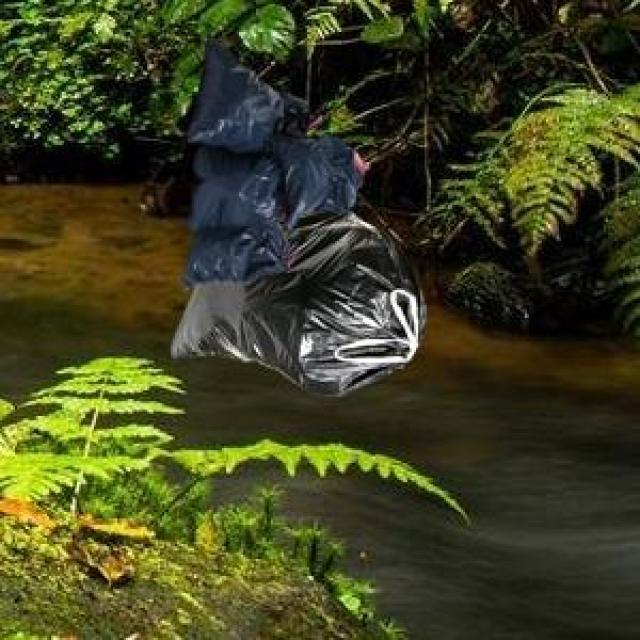miscellaneous trash: (166, 205, 420, 393), (179, 32, 361, 286)
